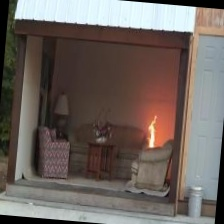fire: (140, 108, 170, 152)
